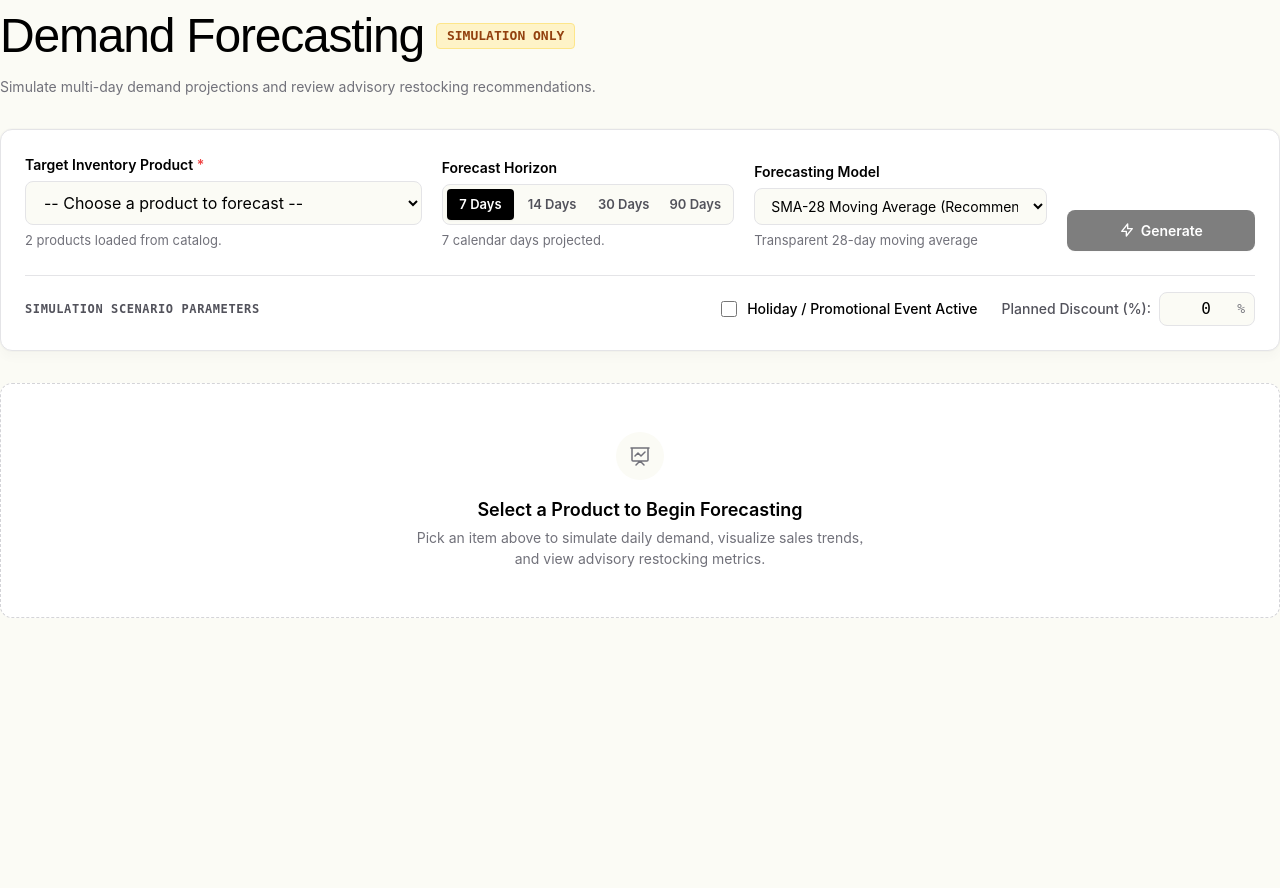
ForecastingPage Component › renders EXPERIMENTAL_UNVALIDATED warning banner when selecting CatBoost V3 model
// Select Product
Select "Wireless Mouse (SKU-WM-001) · Stock: 15" in the dropdown labelled "Target Inventory Product *" at (223, 203), box [25, 181, 422, 225]
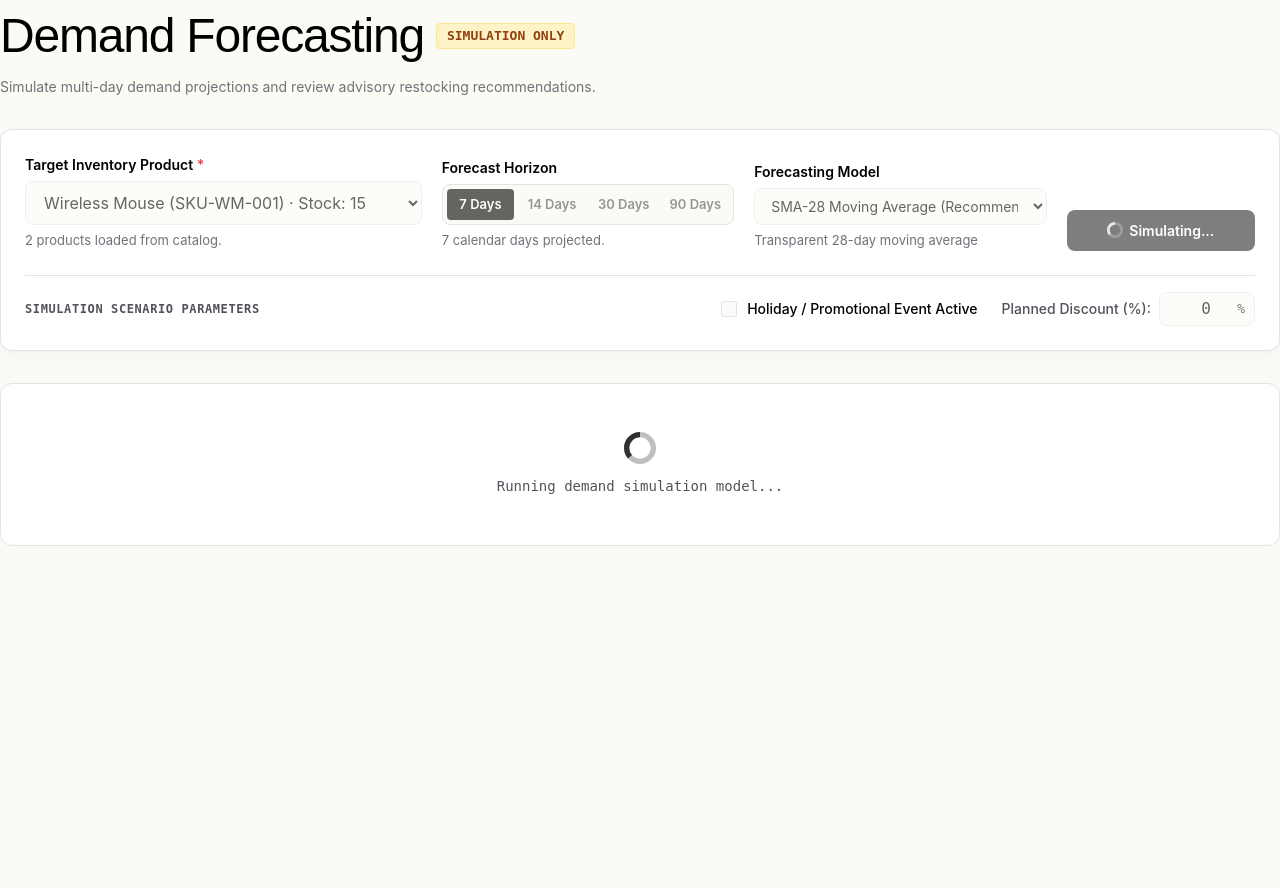
// Switch Model to CatBoost V3
Select "CatBoost V3 Causal (Experimental Simulation)" in the dropdown labelled "Forecasting Model" at (900, 206), box [754, 188, 1047, 225]
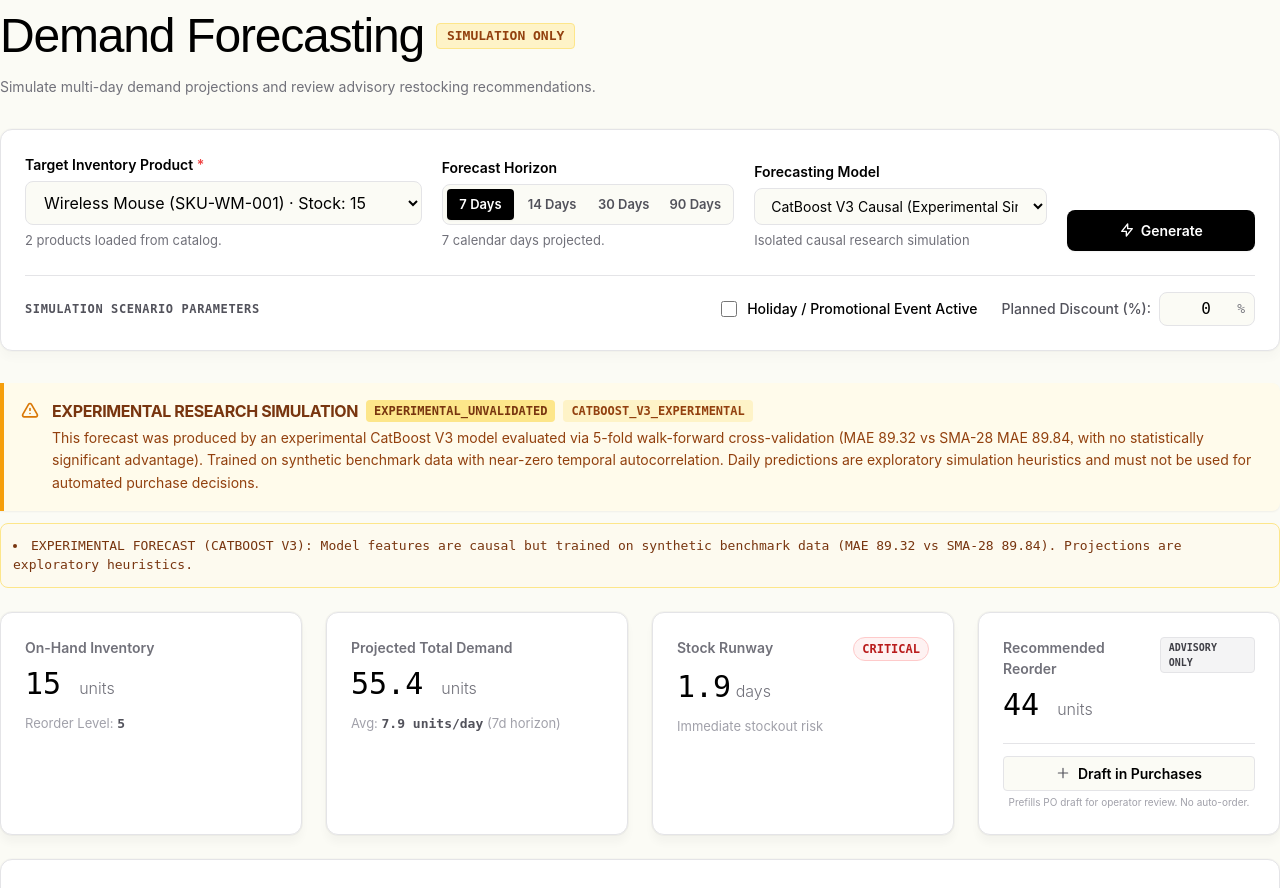
Expected: the message with test id "experimental-warning-banner" is shown, [0, 382, 1279, 511]
Expected: the heading "EXPERIMENTAL RESEARCH SIMULATION" is shown, [52, 398, 358, 422]
Expected: the text "CATBOOST_V3_EXPERIMENTAL" is shown, [563, 400, 753, 422]
